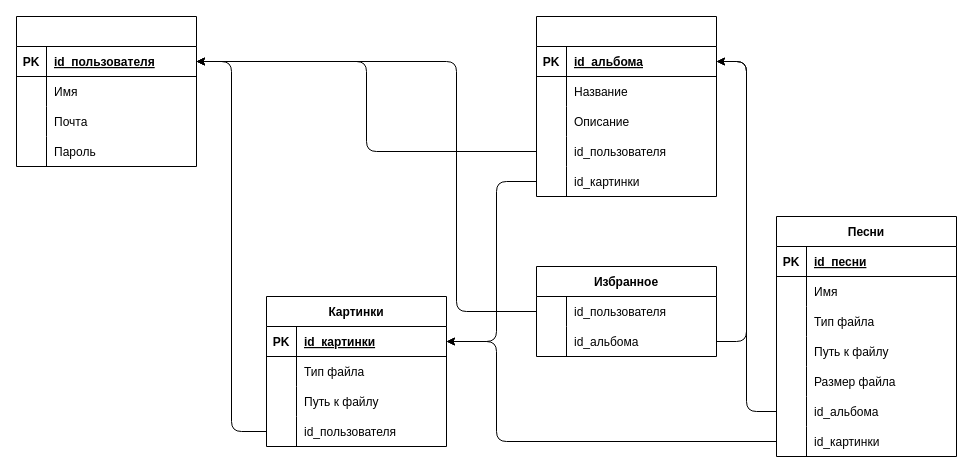
Some shapes in this 973 by 473 pixel diagram are drawn without their labels. The box of each missing label's shape, as (x1, y1, x2, y2) in pixels:
Альбомы: (536, 16, 716, 196)
Пользователи: (16, 16, 196, 166)
